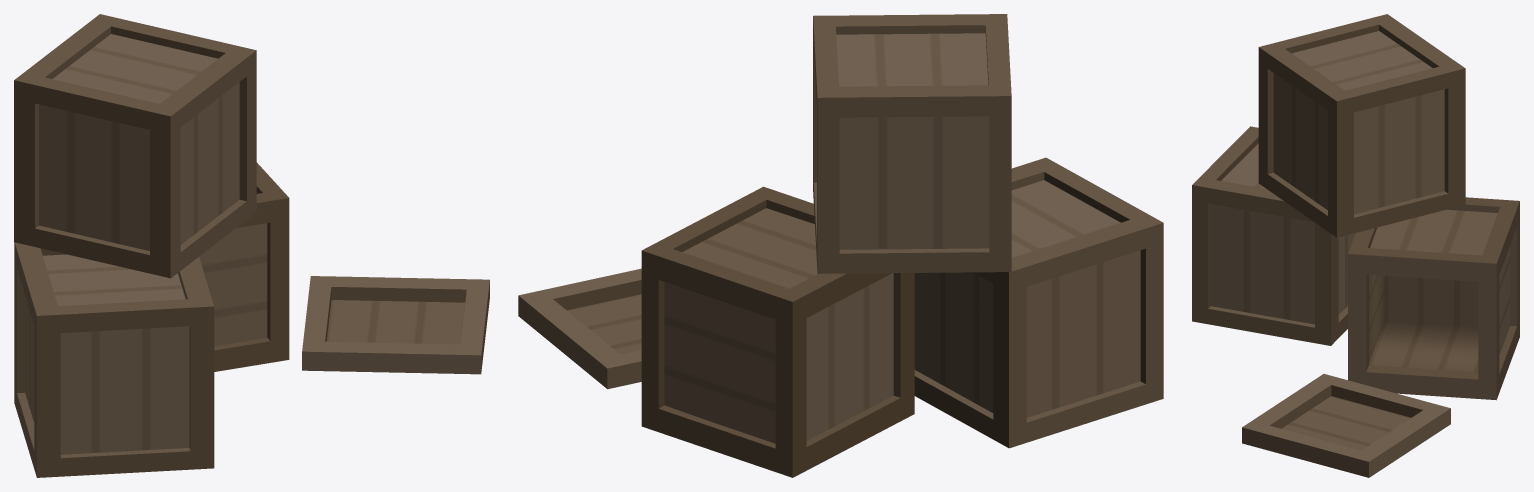
File: SD_Prop_Crate_04.fbx
The picture shows the model from 3 angles, left to right: view 1: azimuth 30°, elevation 25°; view 2: azimuth 150°, elevation 25°; view 3: azimuth 270°, elevation 25°; orthographic projection. The views are drawn at different scales.
Parts seen in each view (by area): view 1: SD_Prop_Crate_04; view 2: SD_Prop_Crate_04; view 3: SD_Prop_Crate_04.
Boxes of the visible parts, <box> form: SD_Prop_Crate_04: <box>14,14,489,477</box>; SD_Prop_Crate_04: <box>518,14,1163,477</box>; SD_Prop_Crate_04: <box>1192,14,1519,477</box>.
Size of the model in its own units: 3.73 by 2.2 by 2.4.
